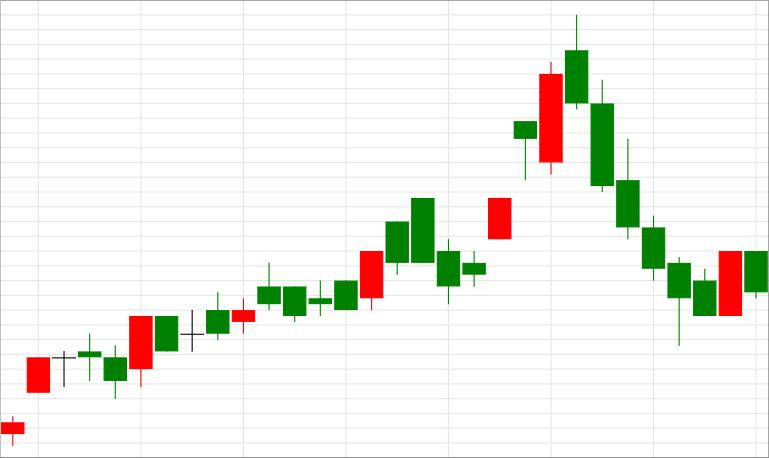bullish_engulfing_rise: (566, 14, 742, 345)
three_black_crows_fall: (462, 14, 640, 287)
